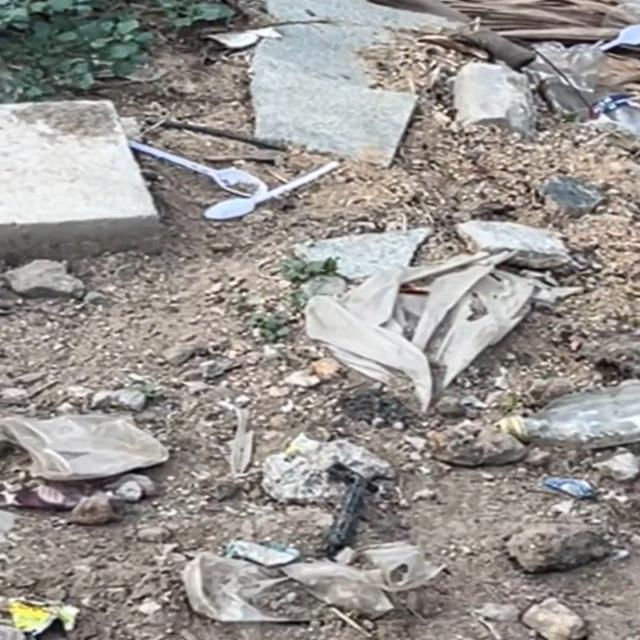paper: (330, 272, 534, 395)
plastic: (127, 147, 359, 247), (5, 399, 175, 484)
